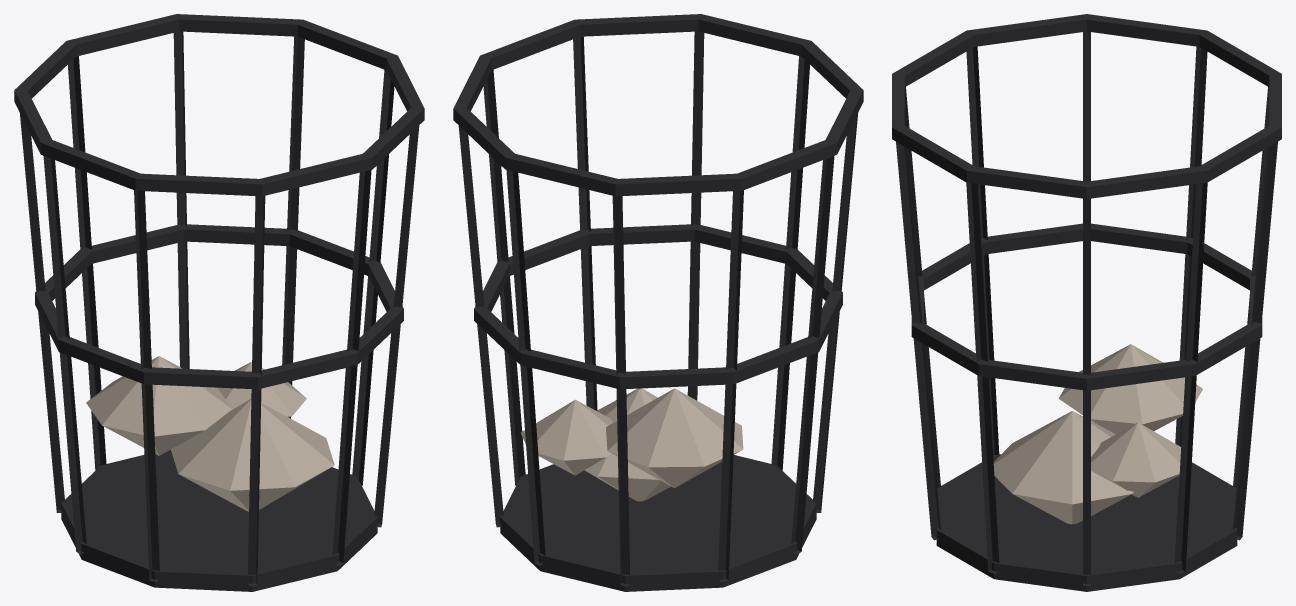
File: FN_Bin_Wire.obj
The picture shows the model from 3 angles, left to right: view 1: azimuth 30°, elevation 25°; view 2: azimuth 150°, elevation 25°; view 3: azimuth 270°, elevation 25°; orthographic projection.
Visible parts, largest first — view 1: FN_Bin_Wire; view 2: FN_Bin_Wire; view 3: FN_Bin_Wire.
Boxes of the visible parts, <box> form: FN_Bin_Wire: <box>14,14,424,591</box>; FN_Bin_Wire: <box>453,14,863,591</box>; FN_Bin_Wire: <box>892,14,1281,591</box>.
Bounding box in the file's own units: 0.28 × 0.32 × 0.2663.
Materials: 1 (1 with a texture image).
